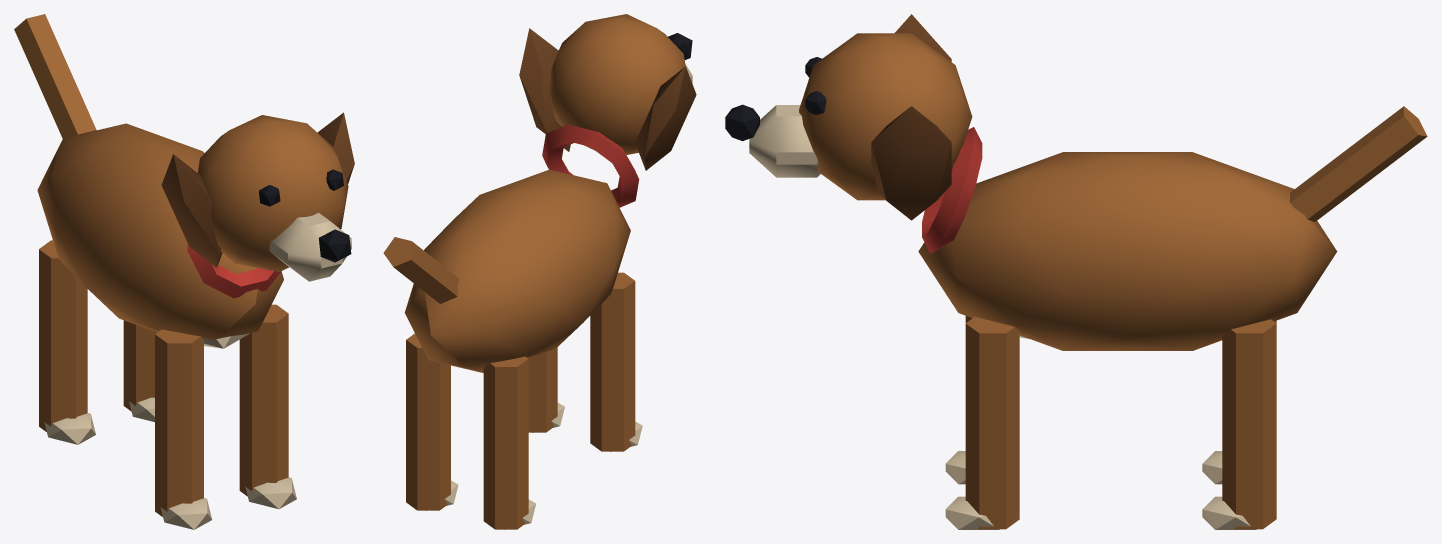
Rendered from a_dog.glb.
3 renders of one model, left to right at view 1: azimuth 30°, elevation 25°; view 2: azimuth 150°, elevation 25°; view 3: azimuth 270°, elevation 25°, orthographic. The views are drawn at different scales.
Visible parts, largest first — view 1: body, head, leg_fl, leg_fr, leg_bl, tail, leg_br; view 2: body, head, leg_bl, leg_fl, leg_br, tail, leg_fr; view 3: body, head, leg_fr, leg_br, tail.
Boxes of the visible parts, x1=… form: body: x1=37, y1=123, x2=283, y2=348; head: x1=161, y1=112, x2=354, y2=281; leg_fl: x1=155, y1=329, x2=212, y2=529; leg_fr: x1=239, y1=304, x2=296, y2=509; leg_bl: x1=39, y1=240, x2=95, y2=444; tail: x1=14, y1=14, x2=96, y2=138; leg_br: x1=123, y1=320, x2=156, y2=422; body: x1=404, y1=125, x2=639, y2=372; head: x1=519, y1=14, x2=696, y2=170; leg_bl: x1=483, y1=356, x2=535, y2=529; leg_fl: x1=590, y1=272, x2=642, y2=451; leg_br: x1=406, y1=333, x2=458, y2=510; tail: x1=383, y1=237, x2=458, y2=303; leg_fr: x1=528, y1=347, x2=564, y2=432; body: x1=918, y1=127, x2=1337, y2=350; head: x1=725, y1=14, x2=972, y2=220; leg_fr: x1=945, y1=317, x2=1019, y2=529; leg_br: x1=1202, y1=319, x2=1276, y2=529; tail: x1=1290, y1=106, x2=1427, y2=221.
Bounding box in the file's own units: 0.3299 × 0.767 × 1.04.
